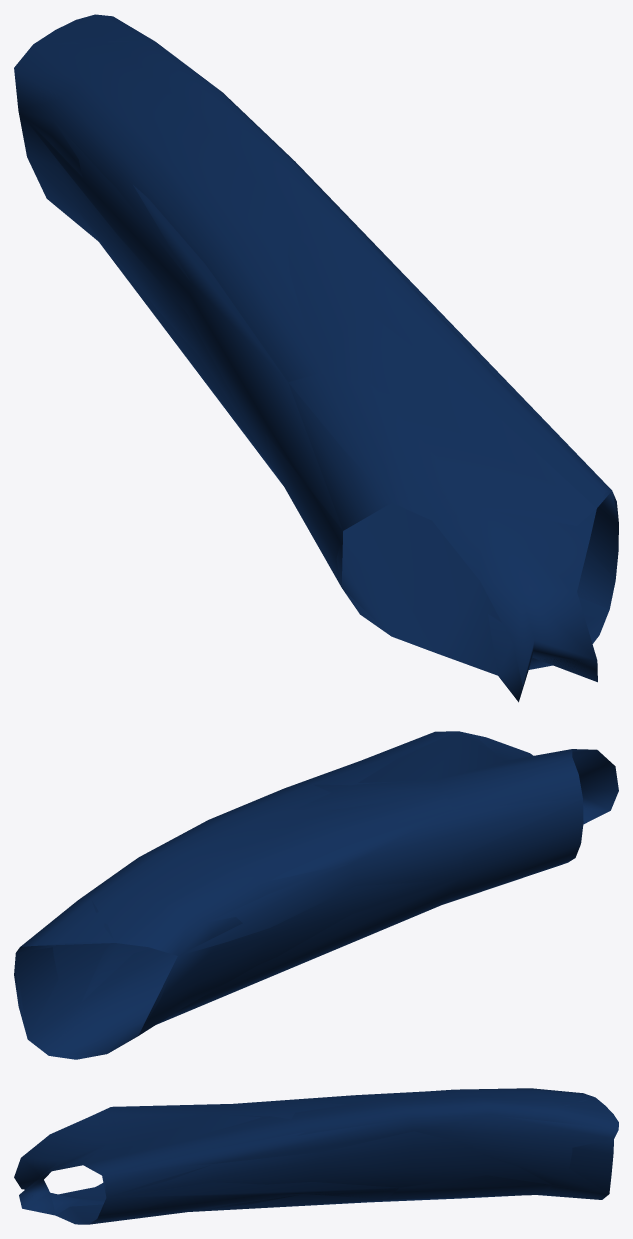
The model's file is truncus bijugularis.fbx.
3 renders of one model, top to bottom at view 1: azimuth 30°, elevation 25°; view 2: azimuth 150°, elevation 25°; view 3: azimuth 270°, elevation 25°, orthographic. The views are drawn at different scales.
Parts seen in each view (by area): view 1: truncus bijugularis, truncus bijugularis low; view 2: truncus bijugularis, truncus bijugularis low; view 3: truncus bijugularis, truncus bijugularis low.
Part boxes in pixels (bbox=[...]): truncus bijugularis: bbox=[14, 14, 618, 702]; truncus bijugularis low: bbox=[14, 41, 618, 681]; truncus bijugularis: bbox=[14, 731, 618, 1059]; truncus bijugularis low: bbox=[14, 731, 614, 1055]; truncus bijugularis: bbox=[14, 1088, 618, 1224]; truncus bijugularis low: bbox=[19, 1098, 618, 1224].
Bounding box in the file's own units: 1.02 × 0.8889 × 3.89.
